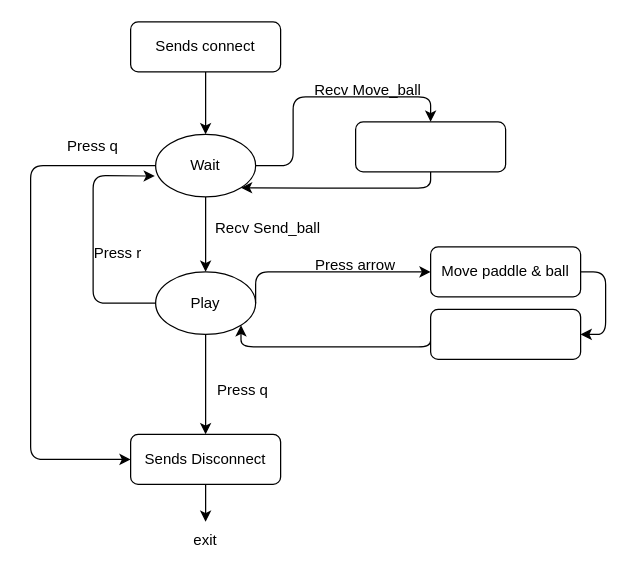
This 638x581 diagram has some shape labels left out. The centre of each missing label's shape, as x and y in pixels:
Send Move_ball: (x=505, y=333)
Update screen: (x=430, y=146)
